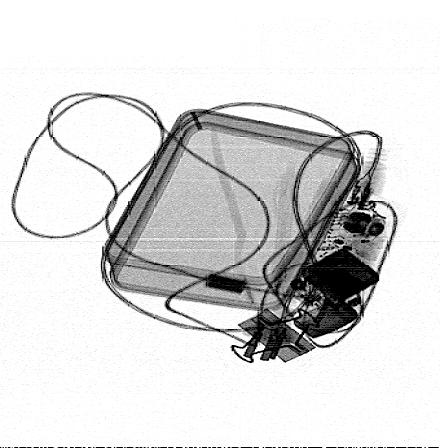Lighter: (289, 247, 380, 339)
